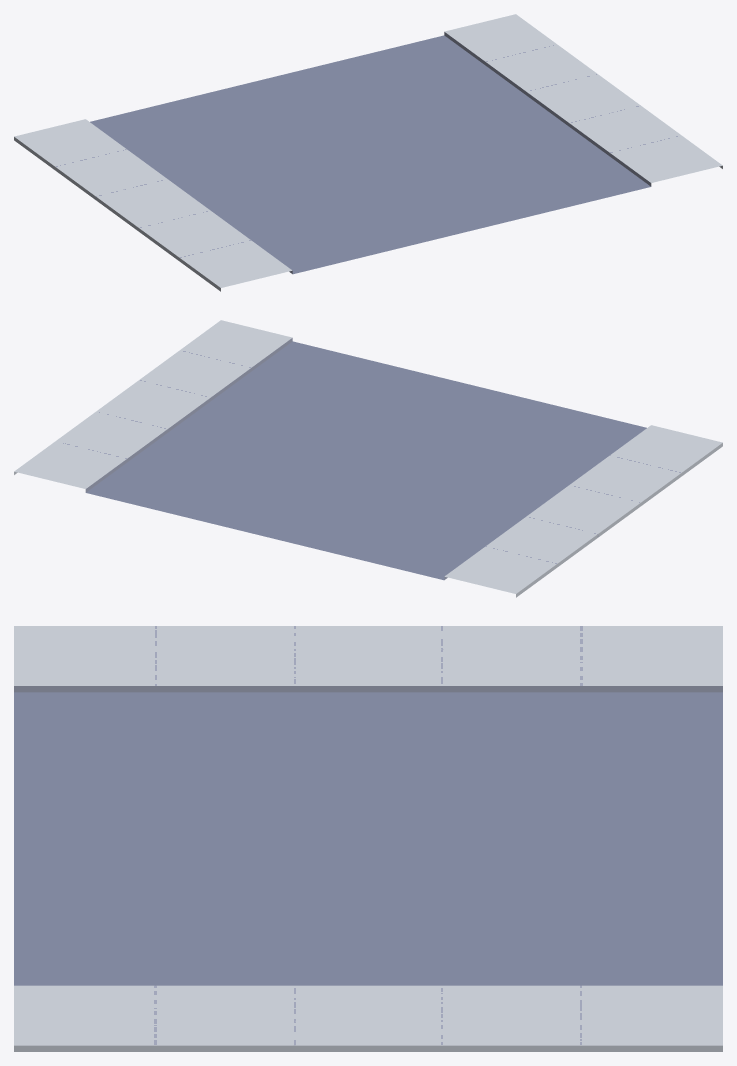
The model's file is street_straight.glb.
3 views of the same model, one above another, from view 1: azimuth 30°, elevation 25°; view 2: azimuth 150°, elevation 25°; view 3: azimuth 270°, elevation 25° (orthographic). The views are drawn at different scales.
Visible parts, largest first — view 1: Street, Sidewalk.001, Sidewalk; view 2: Street, Sidewalk.001, Sidewalk; view 3: Street, Sidewalk, Sidewalk.001.
Part boxes in pixels (x1=…): Street: x1=90, y1=35, x2=650, y2=274; Sidewalk.001: x1=444, y1=14, x2=722, y2=186; Sidewalk: x1=14, y1=119, x2=292, y2=291; Street: x1=86, y1=341, x2=646, y2=580; Sidewalk.001: x1=14, y1=320, x2=292, y2=492; Sidewalk: x1=444, y1=425, x2=722, y2=597; Street: x1=14, y1=692, x2=722, y2=985; Sidewalk: x1=14, y1=626, x2=722, y2=692; Sidewalk.001: x1=14, y1=985, x2=722, y2=1051.
Bounding box in the file's own units: 14 × 0.1 × 10.
1 material, 1 textured.
